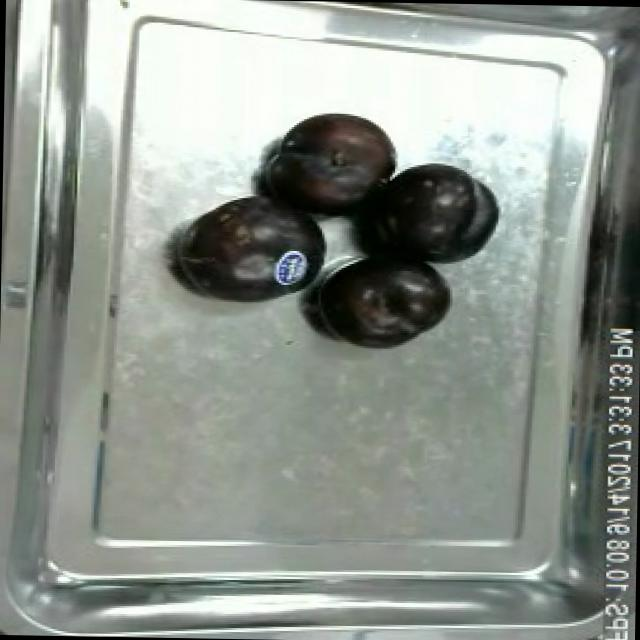Fruit: (174, 182, 335, 306), (254, 104, 406, 223), (312, 250, 458, 352), (376, 157, 496, 273)
